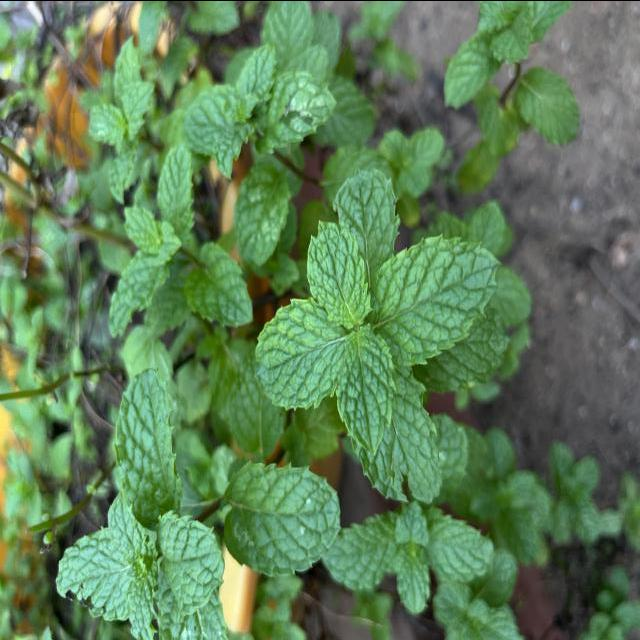Mentha spicata: (370, 232, 503, 368), (224, 456, 342, 579), (252, 294, 346, 412), (336, 322, 398, 456), (305, 218, 373, 327)
